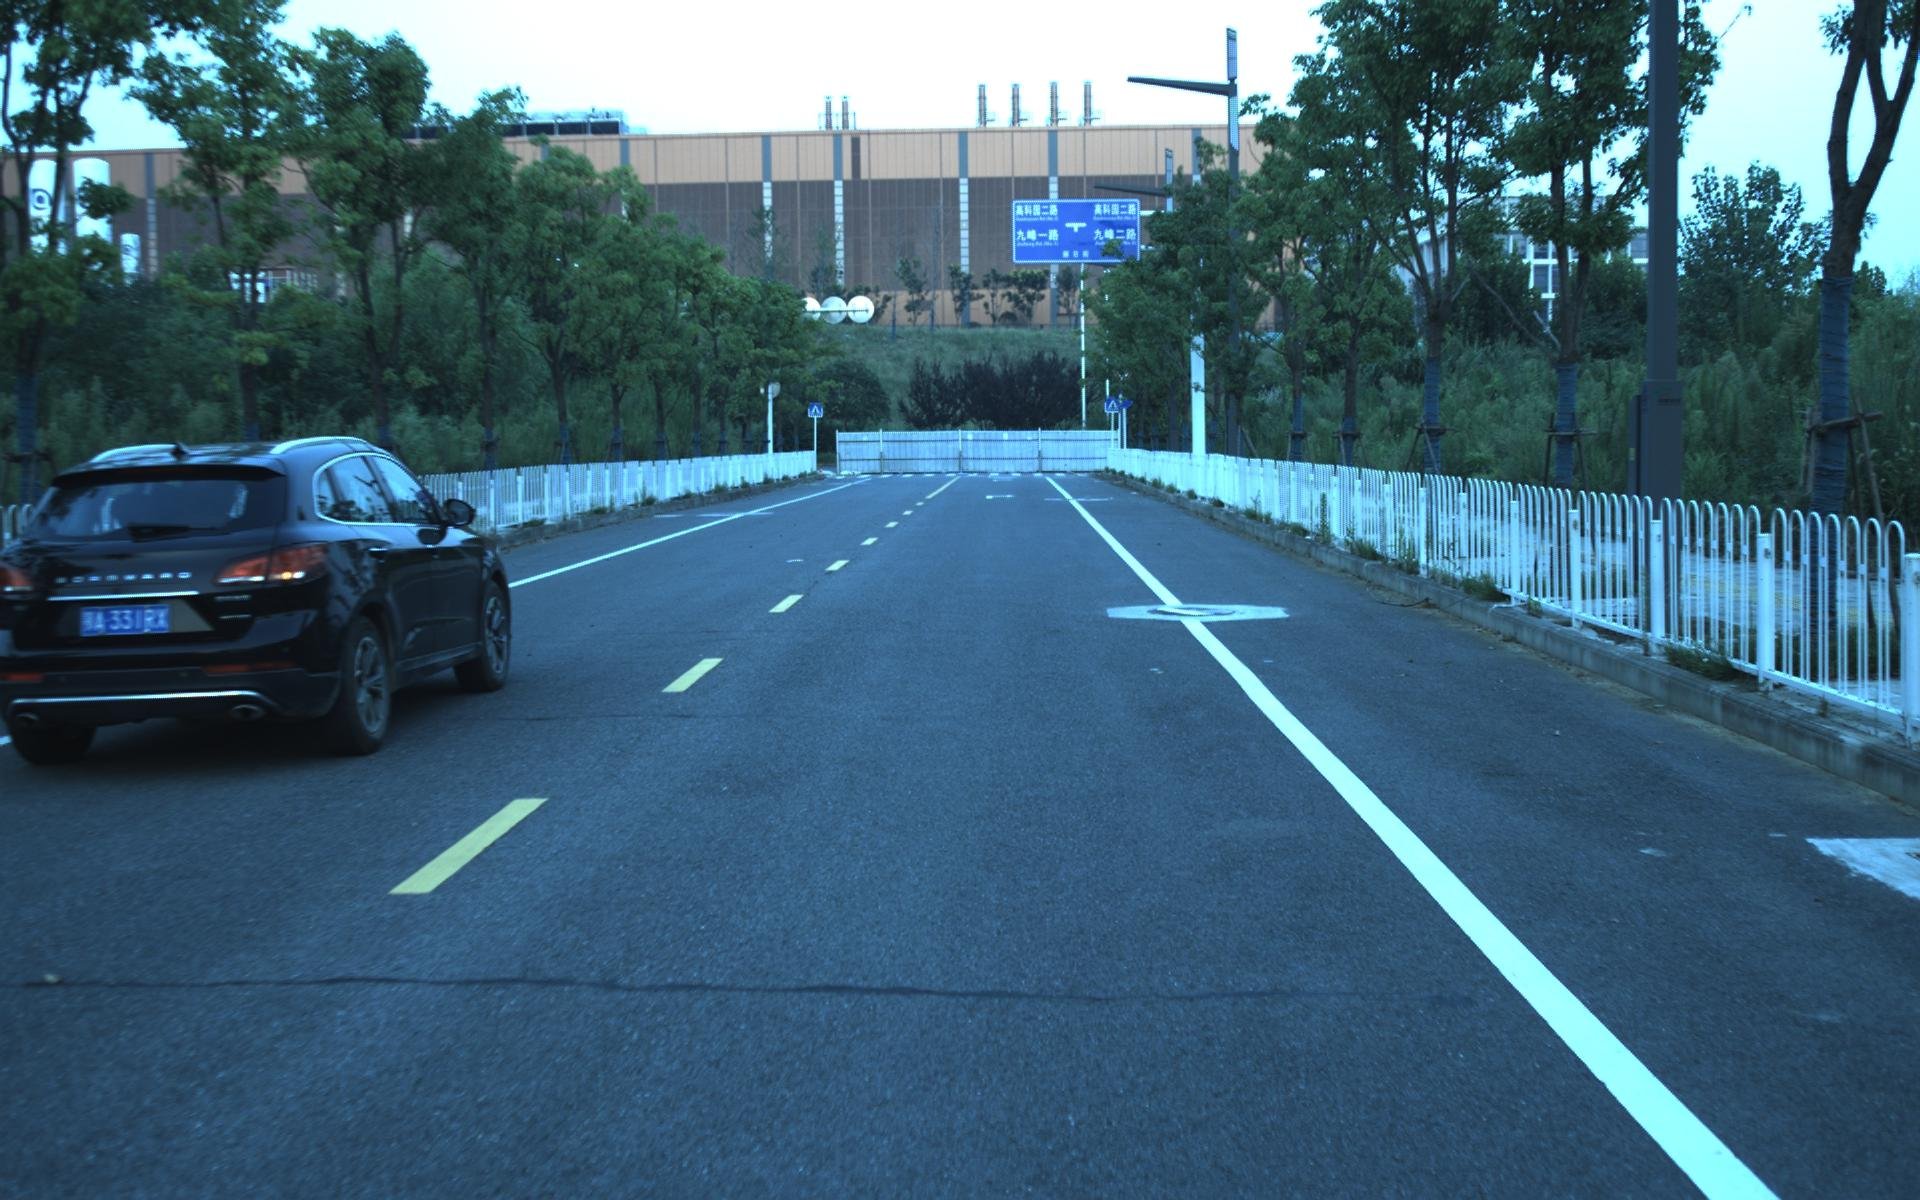Car: (0, 422, 517, 771)
